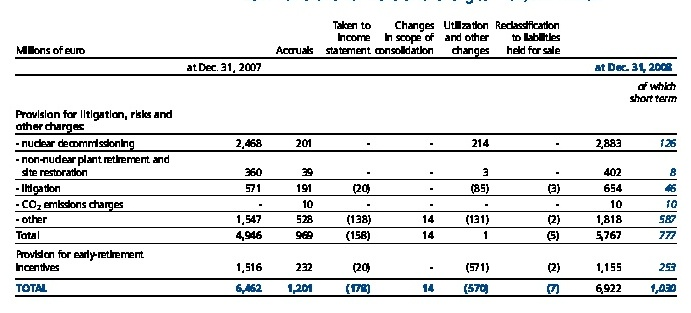table: (0, 0, 691, 313)
